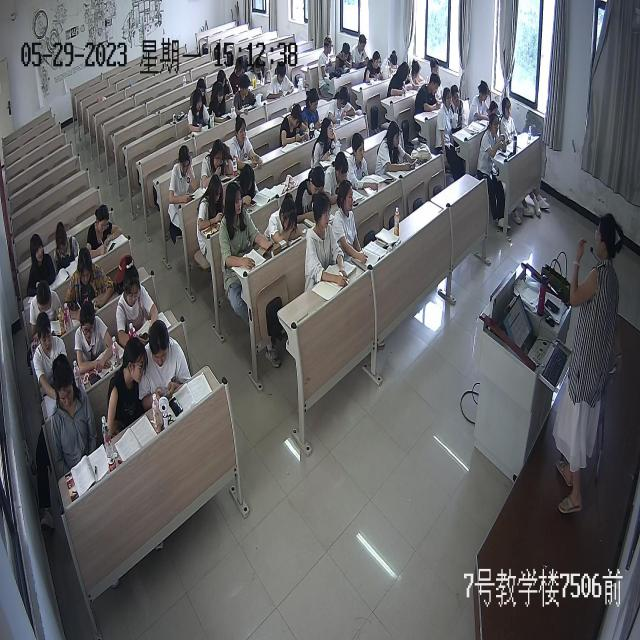distracted: (50, 357, 96, 468), (106, 339, 148, 432), (53, 221, 80, 267), (317, 35, 334, 80), (334, 43, 354, 76)
focused: (305, 195, 349, 286), (64, 247, 114, 319), (33, 309, 70, 406), (117, 262, 159, 342), (76, 300, 115, 374), (334, 182, 366, 262), (296, 167, 329, 227), (196, 172, 227, 234), (348, 132, 378, 196), (88, 205, 123, 258), (28, 281, 63, 334), (27, 233, 56, 296), (231, 114, 262, 170), (326, 152, 352, 207), (312, 117, 342, 164), (479, 113, 505, 159), (234, 74, 259, 118), (267, 61, 295, 100), (414, 74, 441, 114), (468, 80, 492, 122), (436, 87, 454, 142), (448, 83, 468, 129), (388, 62, 415, 96), (499, 95, 518, 142), (248, 54, 270, 89), (351, 34, 371, 71), (363, 52, 383, 84), (381, 48, 399, 80), (230, 58, 246, 92), (430, 59, 442, 100)
sleep: (264, 192, 306, 252)
using_phone: (218, 178, 276, 274), (139, 320, 192, 410), (374, 120, 418, 175), (168, 143, 198, 205), (200, 140, 234, 190), (279, 104, 312, 146), (187, 88, 215, 134), (326, 86, 356, 126), (235, 163, 259, 210), (303, 87, 325, 132), (409, 57, 429, 93), (216, 69, 236, 102)
